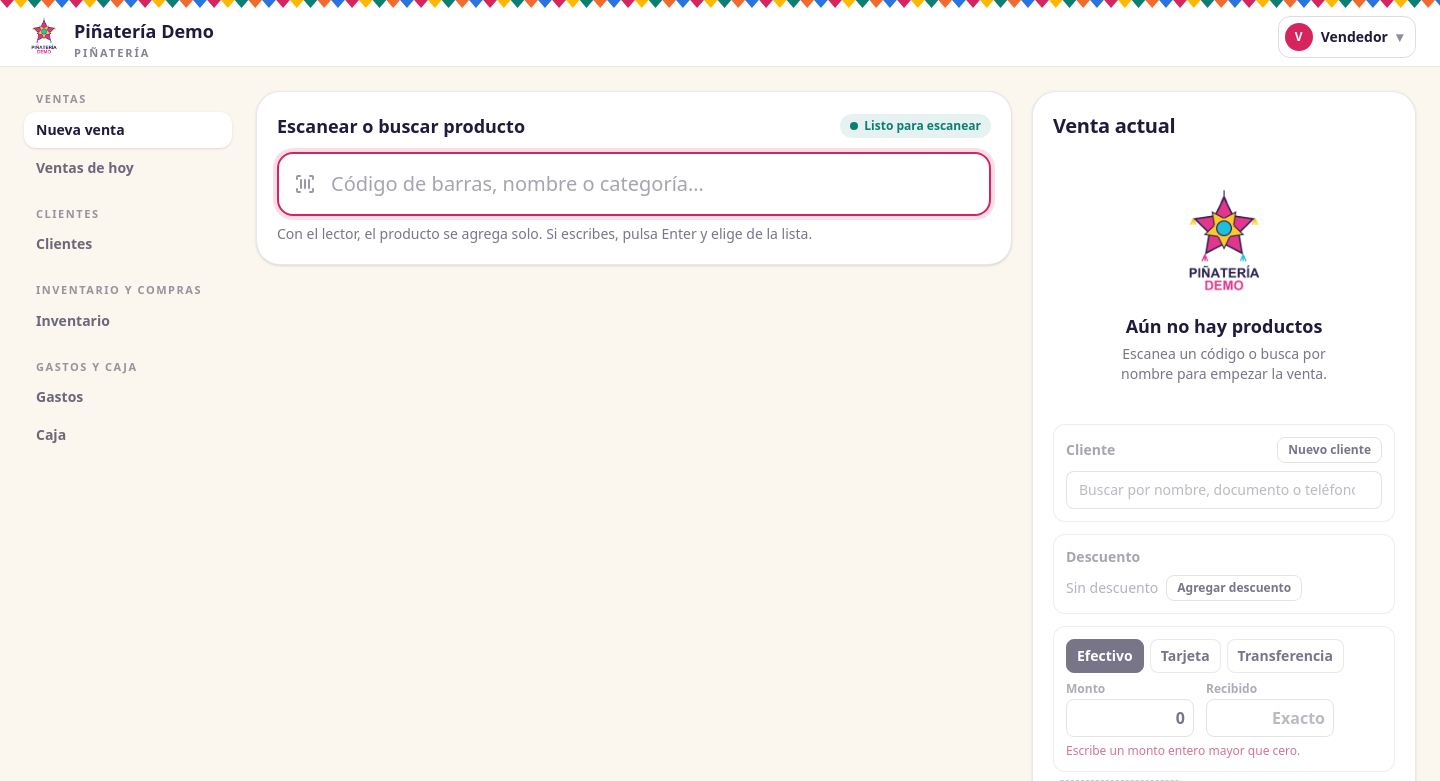
PosPage — Caja (Adendo v3, Fase G2: HU-13) › al elegir Caja se abre el apartado de la caja
The image size is (1440, 781).
What coordinates should you click on to do the following:
click the tab "Caja"
I would click on:
 (128, 435)
Its box is [24,417,232,453].
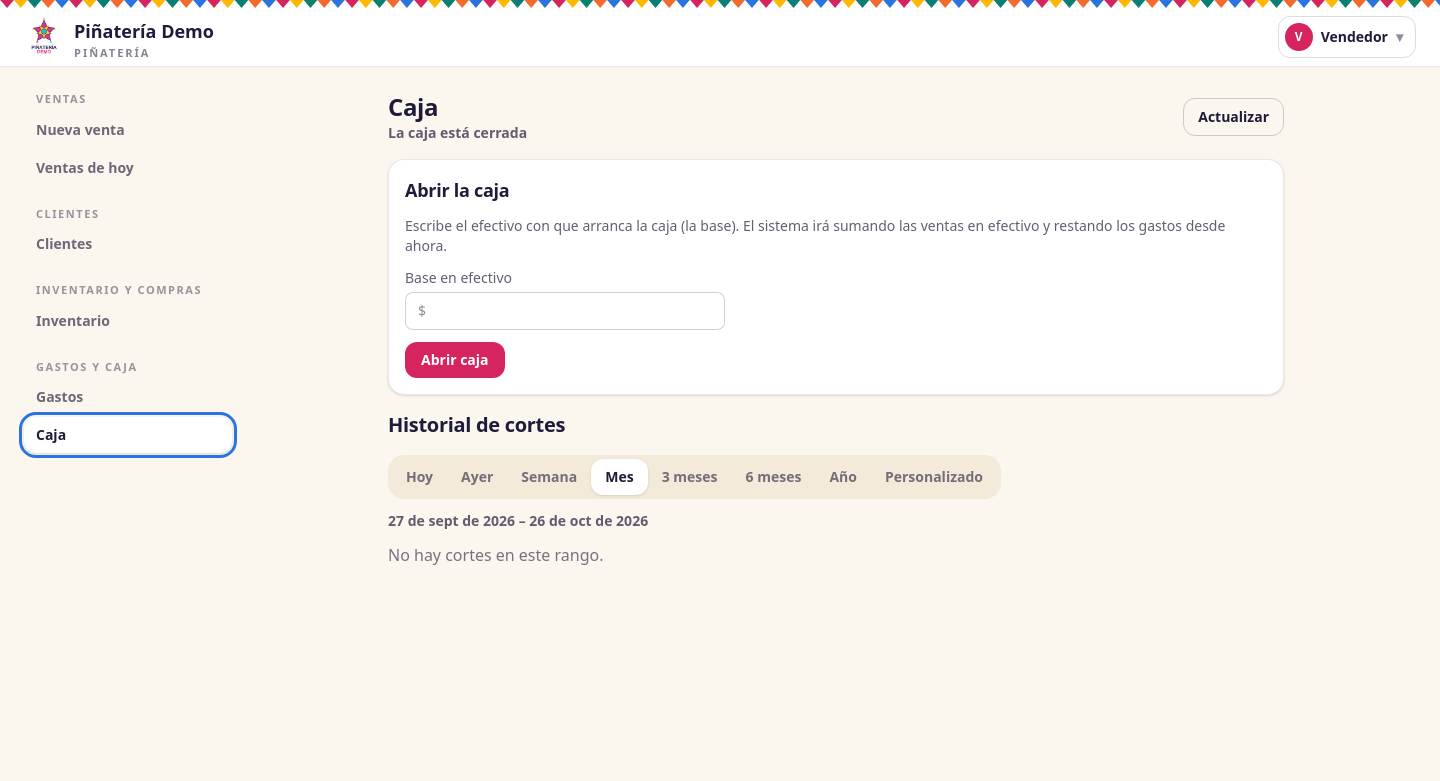
Check: the heading "Caja" is shown, box [388,90,438,123]
Check: the text "La caja está cerrada" is shown, box [388,123,527,143]
Check: the button "Abrir caja" is shown, box [405,342,504,378]
